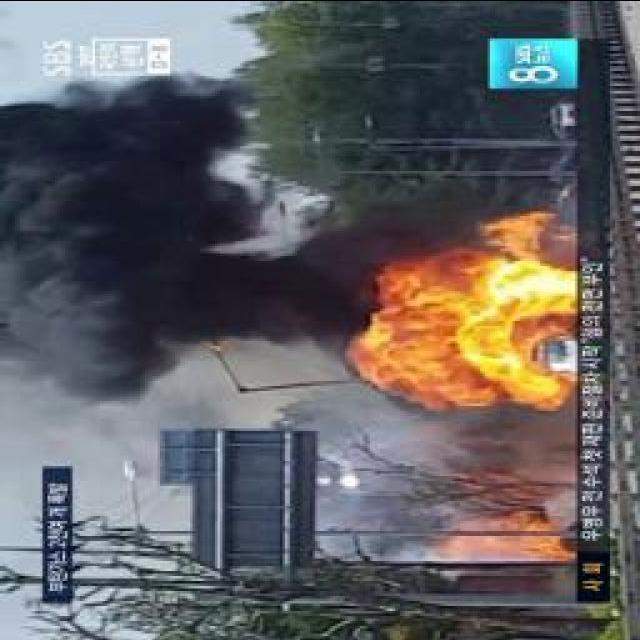Fire: (361, 256, 578, 404), (502, 524, 570, 564)
